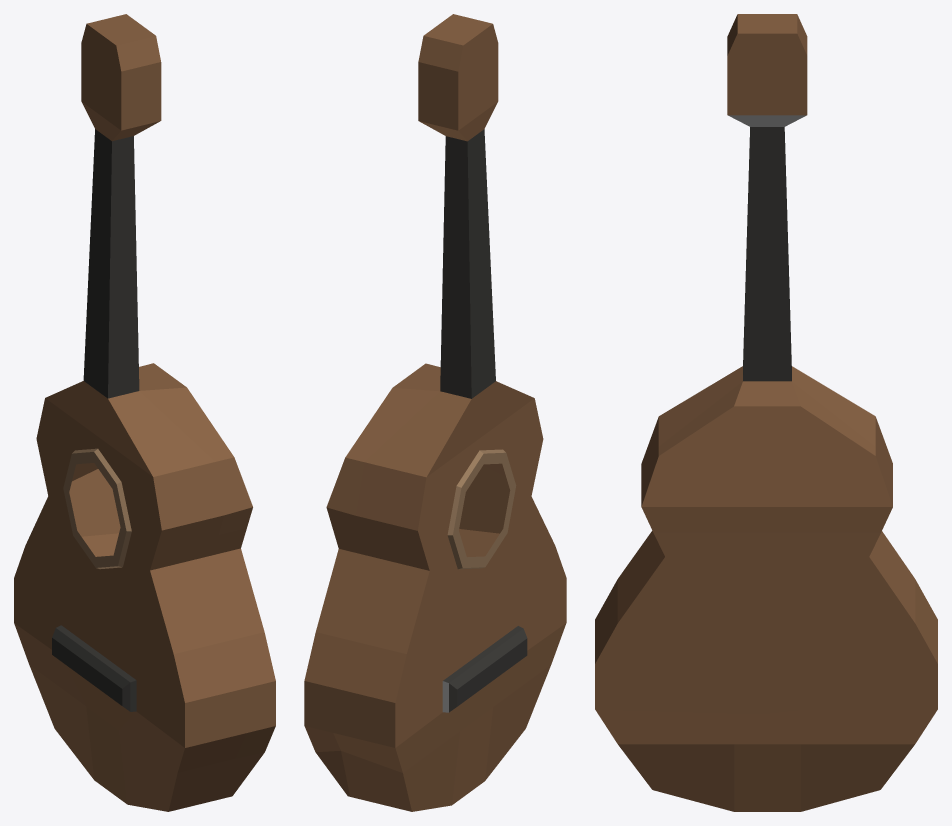
The model's file is AcousticGuitar.fbx.
The picture shows the model from 3 angles, left to right: view 1: azimuth 30°, elevation 25°; view 2: azimuth 150°, elevation 25°; view 3: azimuth 270°, elevation 25°; orthographic projection.
Parts seen in each view (by area): view 1: Acoustic_Guitar; view 2: Acoustic_Guitar; view 3: Acoustic_Guitar.
Boxes of the visible parts, x1,y1,x2,y2 form: Acoustic_Guitar: [14, 14, 275, 811]; Acoustic_Guitar: [304, 14, 566, 811]; Acoustic_Guitar: [595, 14, 937, 811].
Bounding box in the file's own units: 12.38 × 87.19 × 35.54.
